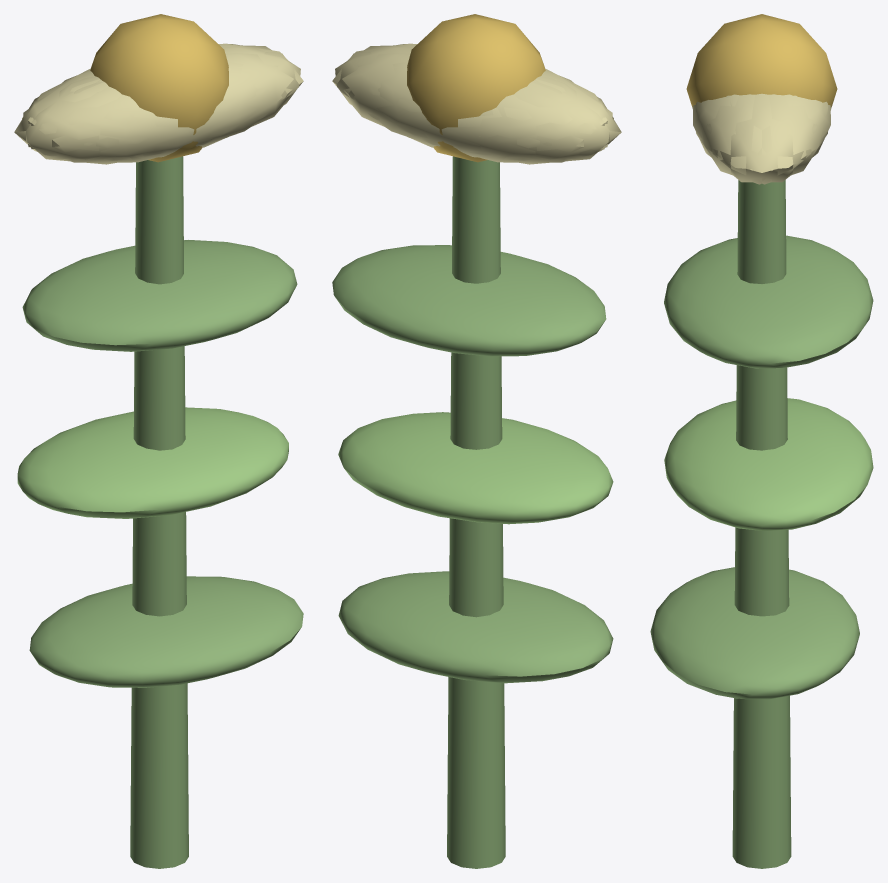
The model's file is citharexylum-subflavescens.glb.
The picture shows the model from 3 angles, left to right: view 1: azimuth 30°, elevation 25°; view 2: azimuth 150°, elevation 25°; view 3: azimuth 270°, elevation 25°; orthographic projection.
Parts seen in each view (by area): view 1: stem, leaf0, leaf2, leaf1, center, petal6, petal2, petal1, petal5, petal7, petal0; view 2: stem, leaf2, leaf1, leaf0, center, petal3, petal7, petal8, petal4, petal2, petal0; view 3: stem, leaf2, leaf0, leaf1, center, petal0, petal5, petal4, petal1, petal8.
Boxes of the visible parts, bbox=[...] form: stem: bbox=[130, 156, 188, 868]; leaf0: bbox=[29, 576, 303, 687]; leaf2: bbox=[22, 240, 297, 351]; leaf1: bbox=[17, 407, 288, 518]; center: bbox=[90, 14, 228, 162]; petal6: bbox=[30, 81, 216, 162]; petal2: bbox=[23, 76, 165, 164]; petal1: bbox=[96, 61, 286, 160]; petal5: bbox=[155, 52, 303, 153]; petal7: bbox=[14, 71, 108, 156]; petal0: bbox=[223, 45, 300, 120]; stem: bbox=[447, 156, 505, 868]; leaf2: bbox=[332, 245, 606, 356]; leaf1: bbox=[338, 412, 613, 524]; leaf0: bbox=[338, 571, 613, 683]; center: bbox=[407, 14, 545, 162]; petal3: bbox=[419, 81, 605, 162]; petal7: bbox=[470, 76, 612, 164]; petal8: bbox=[349, 61, 539, 160]; petal4: bbox=[332, 52, 480, 153]; petal2: bbox=[527, 71, 621, 156]; petal0: bbox=[335, 45, 412, 120]; stem: bbox=[732, 180, 791, 868]; leaf2: bbox=[664, 235, 873, 368]; leaf0: bbox=[650, 567, 859, 699]; leaf1: bbox=[664, 398, 873, 530]; center: bbox=[686, 14, 837, 107]; petal0: bbox=[706, 93, 817, 182]; petal5: bbox=[696, 94, 773, 184]; petal4: bbox=[750, 94, 827, 184]; petal1: bbox=[693, 94, 739, 157]; petal8: bbox=[784, 94, 830, 157].
Size of the model in its own units: 0.1541 by 0.4399 by 0.1064.
